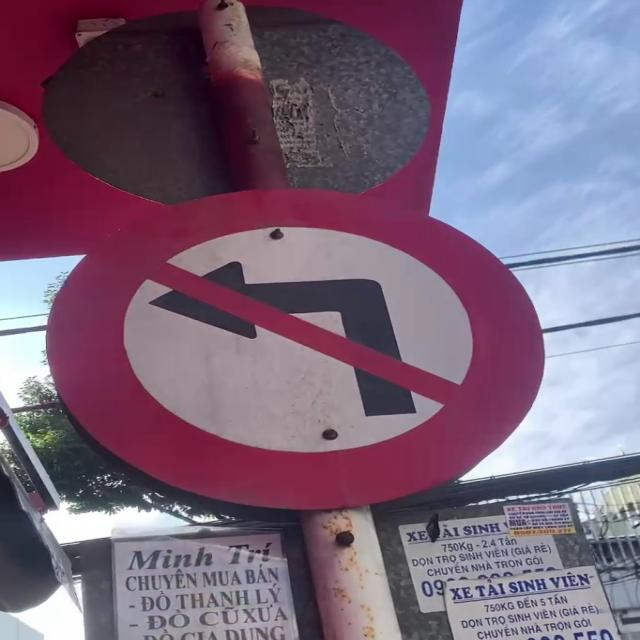Cam_Re_Trai: (44, 186, 546, 514)
